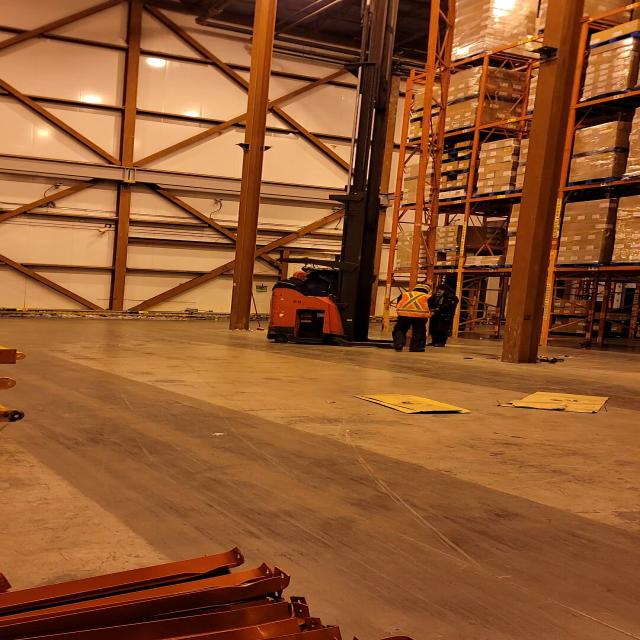forklift: (262, 192, 408, 351)
human: (390, 280, 437, 354), (420, 281, 461, 350), (270, 270, 318, 296)
objectofinterest: (393, 8, 451, 357), (493, 386, 616, 418), (351, 392, 470, 415)
